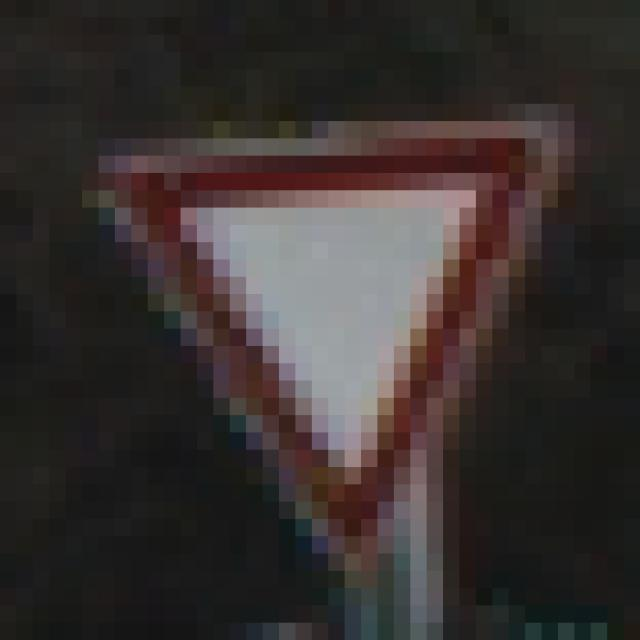Give Way: (100, 105, 543, 554)
